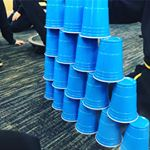cups: (91, 34, 127, 84), (106, 75, 142, 125), (77, 1, 115, 41)
